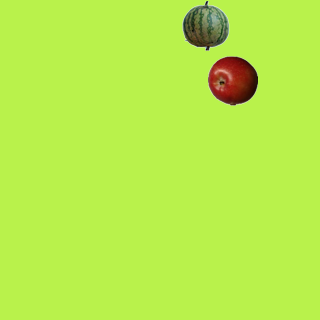Apple Braeburn: (207, 55, 257, 105)
Watermelon: (180, 0, 230, 50)
